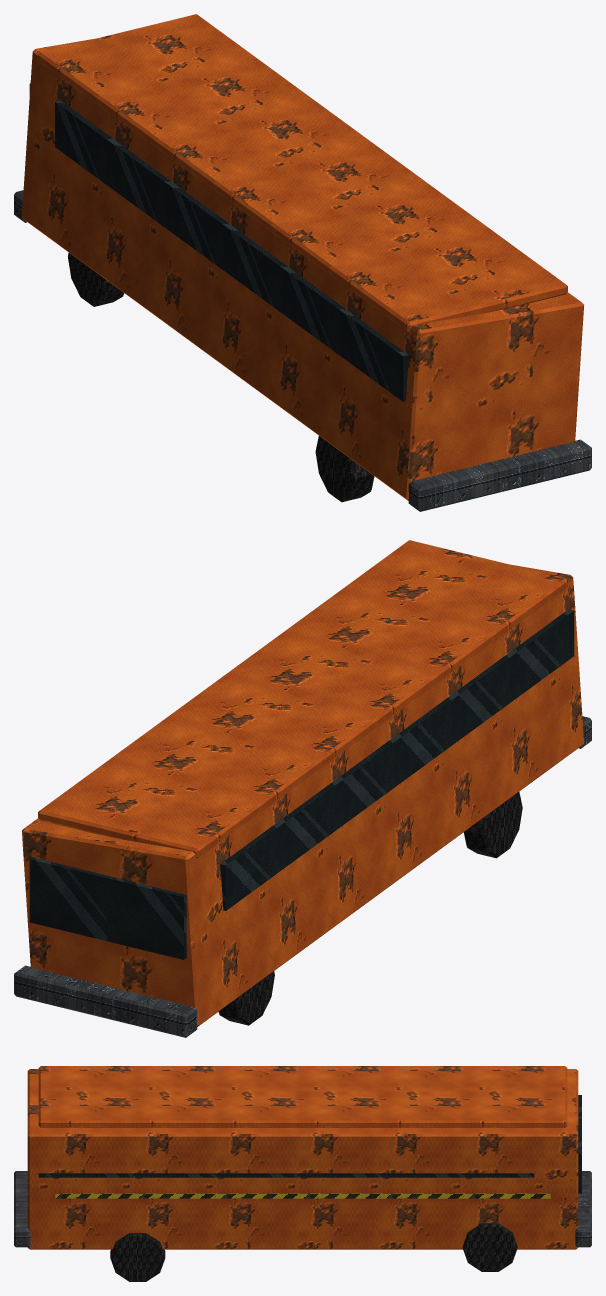
File: ext_bus_wreck.glb
3 views of the same model, one above another, from view 1: azimuth 30°, elevation 25°; view 2: azimuth 150°, elevation 25°; view 3: azimuth 270°, elevation 25° (orthographic). The views are drawn at different scales.
Visible parts, largest first — view 1: ext_bus_wreck_mesh; view 2: ext_bus_wreck_mesh; view 3: ext_bus_wreck_mesh.
Part boxes in pixels (x1,y1,x2,y2): ext_bus_wreck_mesh: (14, 14, 591, 511); ext_bus_wreck_mesh: (14, 540, 591, 1037); ext_bus_wreck_mesh: (14, 1066, 591, 1281).
Size of what is drawn, in the model's own units: 2.66 by 3.2 by 10.5.
Materials: 5 (5 with a texture image).
